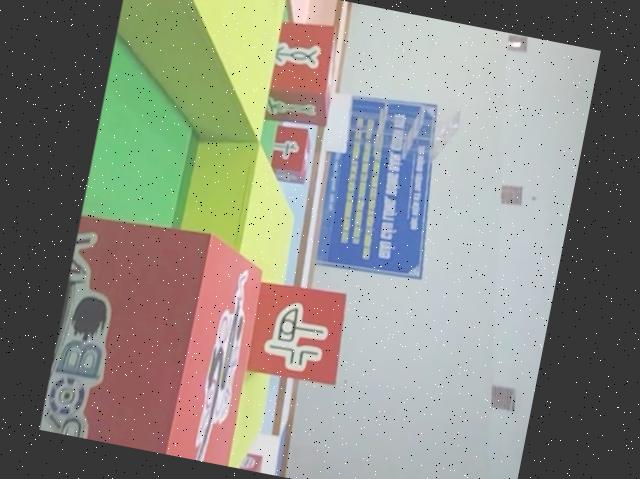R1: (39, 205, 275, 466)
R2 Real: (235, 271, 356, 390), (251, 10, 351, 132), (260, 118, 318, 189)
